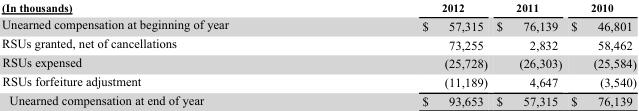table: (0, 0, 635, 108)
table column: (0, 0, 324, 108), (324, 0, 491, 108), (491, 0, 565, 108), (565, 0, 635, 108)
table column header: (0, 0, 635, 15)
table row: (0, 15, 635, 34), (0, 34, 635, 53), (0, 53, 635, 72), (0, 72, 635, 91), (0, 91, 635, 108), (0, 0, 635, 15)
